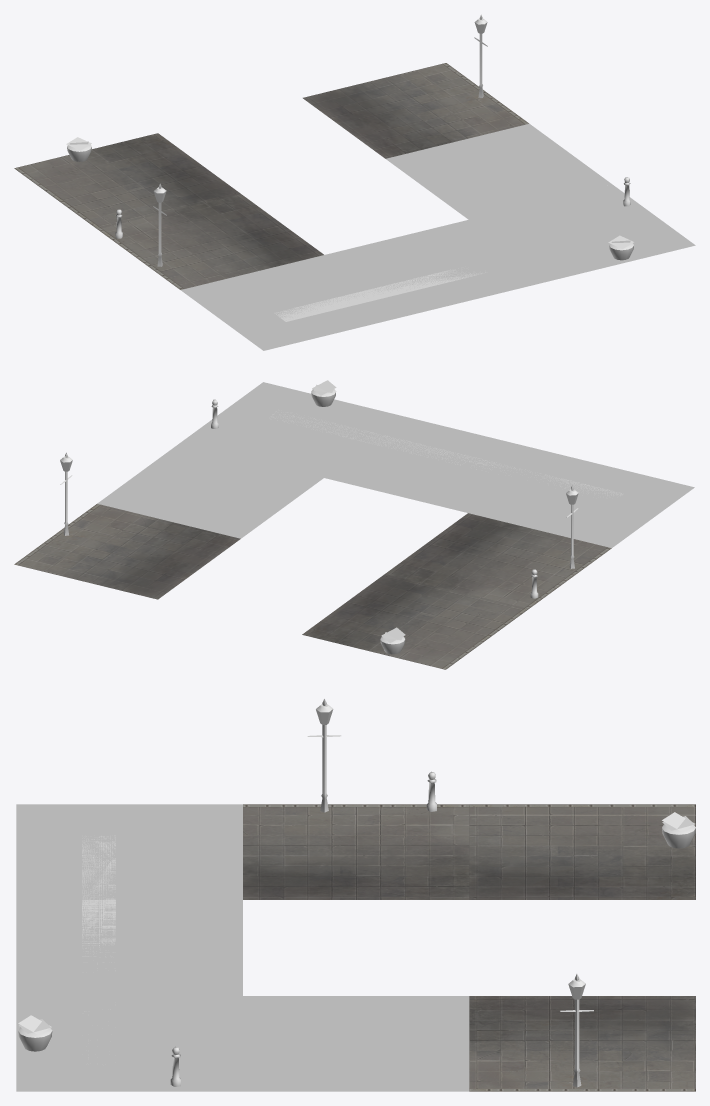
Rendered from propsonly_h12.gltf.
3 renders of one model, top to bottom at view 1: azimuth 30°, elevation 25°; view 2: azimuth 150°, elevation 25°; view 3: azimuth 270°, elevation 25°, orthographic. The views are drawn at different scales.
Visible parts, largest first — view 1: file_h12_center.001, file_h12_endr.001, file_h12_center3.002, file_h12_passm.001, file_h12_endl.003, file_h12_passr.001, file_h12_passl.002, FeedbackBlocker.004; view 2: file_h12_center.001, file_h12_passm.001, file_h12_endr.001, file_h12_passl.002, file_h12_center3.002, file_h12_passr.001, file_h12_endl.003, FeedbackBlocker.004, prop_flowerpot_h12_1, prop_flowerpot_h12_2; view 3: file_h12_center.001, file_h12_passl.002, file_h12_center3.002, file_h12_passm.001, file_h12_endr.001, file_h12_endl.003, file_h12_passr.001, FeedbackBlocker.004, prop_flowerpot_h12_2, prop_flowerpot_h12_1, prop_lightpost_h12_1, prop_lightpost_h12_2.
Part boxes in pixels (x1,y1,x2,y2): file_h12_center.001: [386, 123, 612, 219]; file_h12_endr.001: [303, 63, 528, 158]; file_h12_center3.002: [97, 194, 323, 289]; file_h12_passm.001: [325, 220, 551, 315]; file_h12_endl.003: [14, 133, 240, 228]; file_h12_passr.001: [469, 184, 695, 280]; file_h12_passl.002: [180, 255, 407, 350]; FeedbackBlocker.004: [274, 268, 485, 321]; file_h12_center.001: [97, 443, 323, 538]; file_h12_passm.001: [324, 417, 550, 512]; file_h12_endr.001: [14, 503, 240, 599]; file_h12_passl.002: [468, 452, 694, 547]; file_h12_center3.002: [385, 513, 611, 608]; file_h12_passr.001: [180, 382, 406, 477]; file_h12_endl.003: [302, 574, 528, 669]; FeedbackBlocker.004: [271, 411, 622, 495]; prop_flowerpot_h12_1: [380, 627, 405, 654]; prop_flowerpot_h12_2: [311, 380, 336, 406]; file_h12_center.001: [243, 996, 469, 1091]; file_h12_passl.002: [16, 804, 242, 899]; file_h12_center3.002: [243, 804, 469, 899]; file_h12_passm.001: [16, 900, 242, 995]; file_h12_endr.001: [469, 996, 695, 1091]; file_h12_endl.003: [469, 804, 695, 899]; file_h12_passr.001: [16, 996, 242, 1091]; FeedbackBlocker.004: [82, 835, 115, 1057]; prop_flowerpot_h12_2: [18, 1015, 52, 1051]; prop_flowerpot_h12_1: [662, 812, 695, 848]; prop_lightpost_h12_1: [307, 698, 341, 812]; prop_lightpost_h12_2: [560, 974, 593, 1087].
Size of what is drawn, in the model's own units: 3 by 0.5482 by 3.01.
